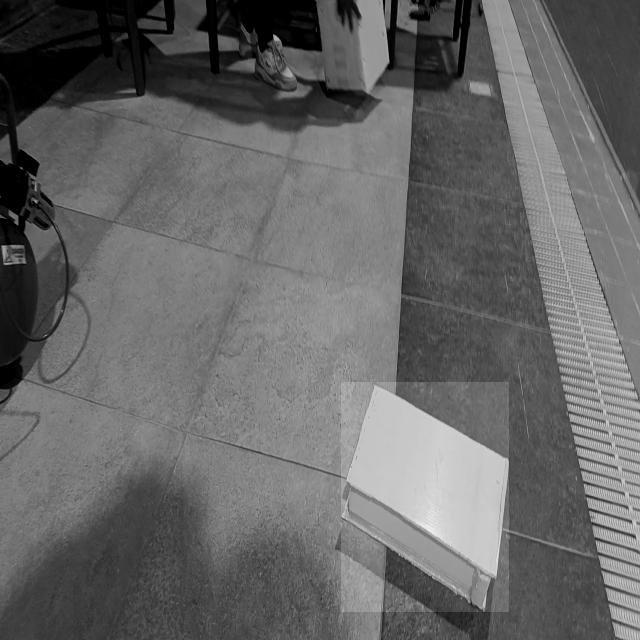Cuboid: (341, 382, 509, 612)
